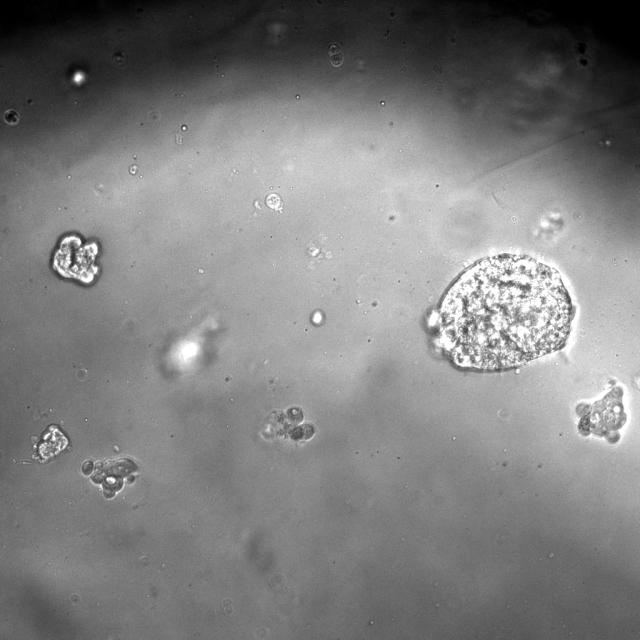organoid: (424, 253, 574, 371), (576, 379, 626, 445), (50, 232, 100, 286), (81, 455, 139, 498), (260, 406, 315, 444), (30, 423, 69, 463), (328, 43, 343, 67), (265, 193, 283, 212), (309, 309, 326, 326), (4, 109, 19, 126)
